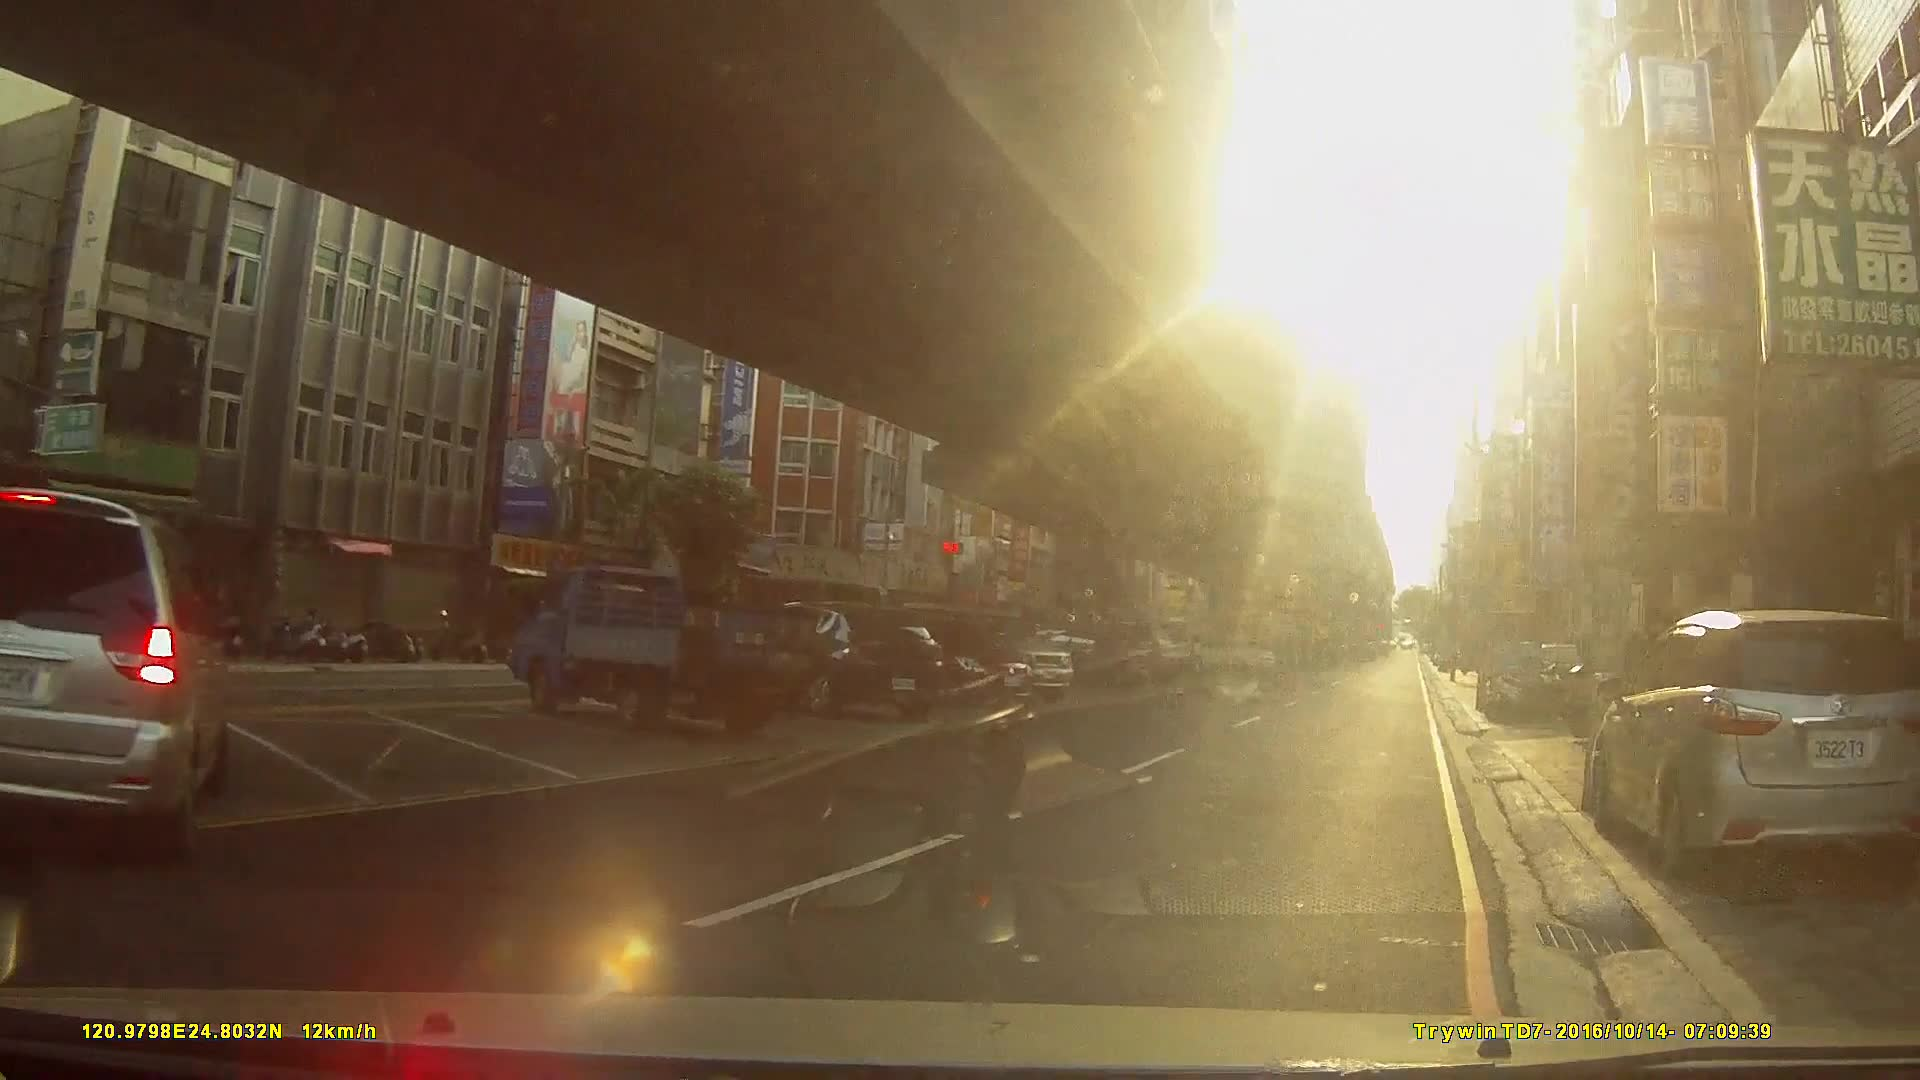vehicle: (1585, 607, 1919, 880), (0, 484, 231, 864), (502, 563, 816, 736), (744, 599, 944, 721), (864, 611, 1034, 705), (996, 628, 1135, 687)
